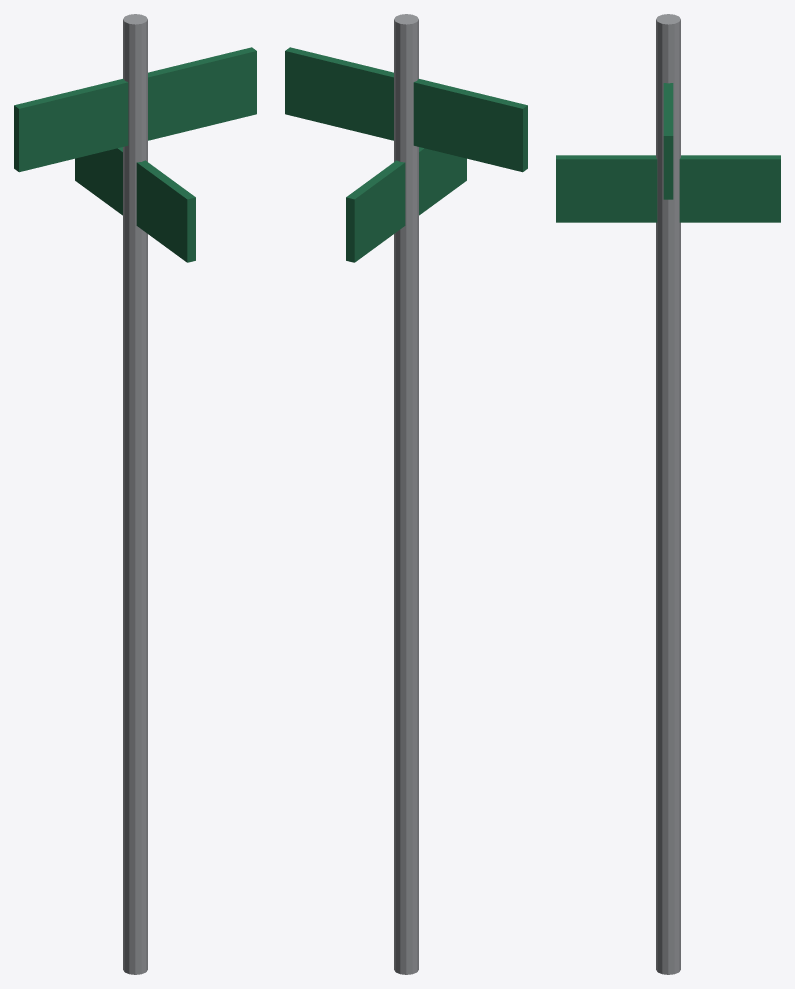
Rendered from street-sign.glb.
The picture shows the model from 3 angles, left to right: view 1: azimuth 30°, elevation 25°; view 2: azimuth 150°, elevation 25°; view 3: azimuth 270°, elevation 25°; orthographic projection.
Visible parts, largest first — view 1: Cylinder, Cube, Cube.001; view 2: Cylinder, Cube, Cube.001; view 3: Cylinder, Cube.001, Cube.
Part boxes in pixels (x1=…): Cylinder: x1=123, y1=14, x2=147, y2=974; Cube: x1=14, y1=47, x2=256, y2=172; Cube.001: x1=75, y1=147, x2=195, y2=262; Cylinder: x1=394, y1=14, x2=418, y2=974; Cube: x1=285, y1=47, x2=527, y2=172; Cube.001: x1=346, y1=147, x2=466, y2=262; Cylinder: x1=656, y1=14, x2=680, y2=974; Cube.001: x1=556, y1=155, x2=780, y2=222; Cube: x1=663, y1=83, x2=673, y2=199.
Size of what is drawn, in the model's own units: 1.1 by 4.2 by 0.9.
